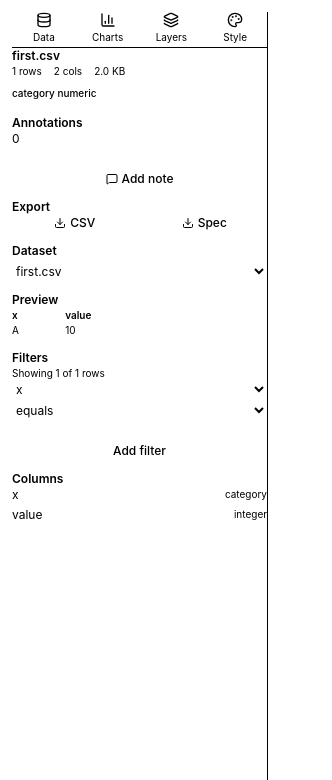
Test: Sidebar › switches between loaded datasets and previews rows
Expected: the heading "first.csv" is shown, [12, 48, 60, 63]
Expected: the text "A" is shown, [12, 323, 65, 338]
Select "second.csv" in the dropdown named "Active dataset" at (140, 272), box [12, 263, 267, 280]
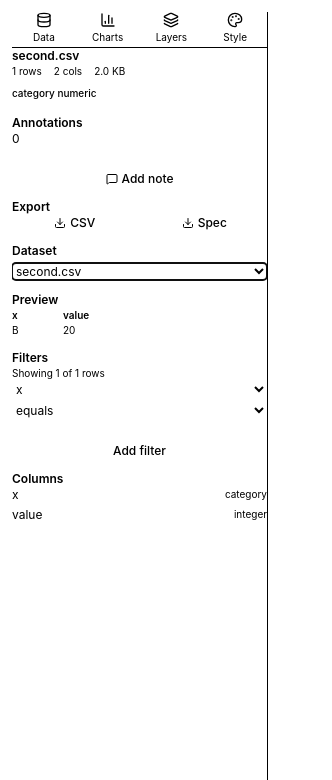
Now the heading "second.csv" is shown, box [12, 48, 79, 63]
Now the text "B" is shown, box [12, 323, 63, 338]
